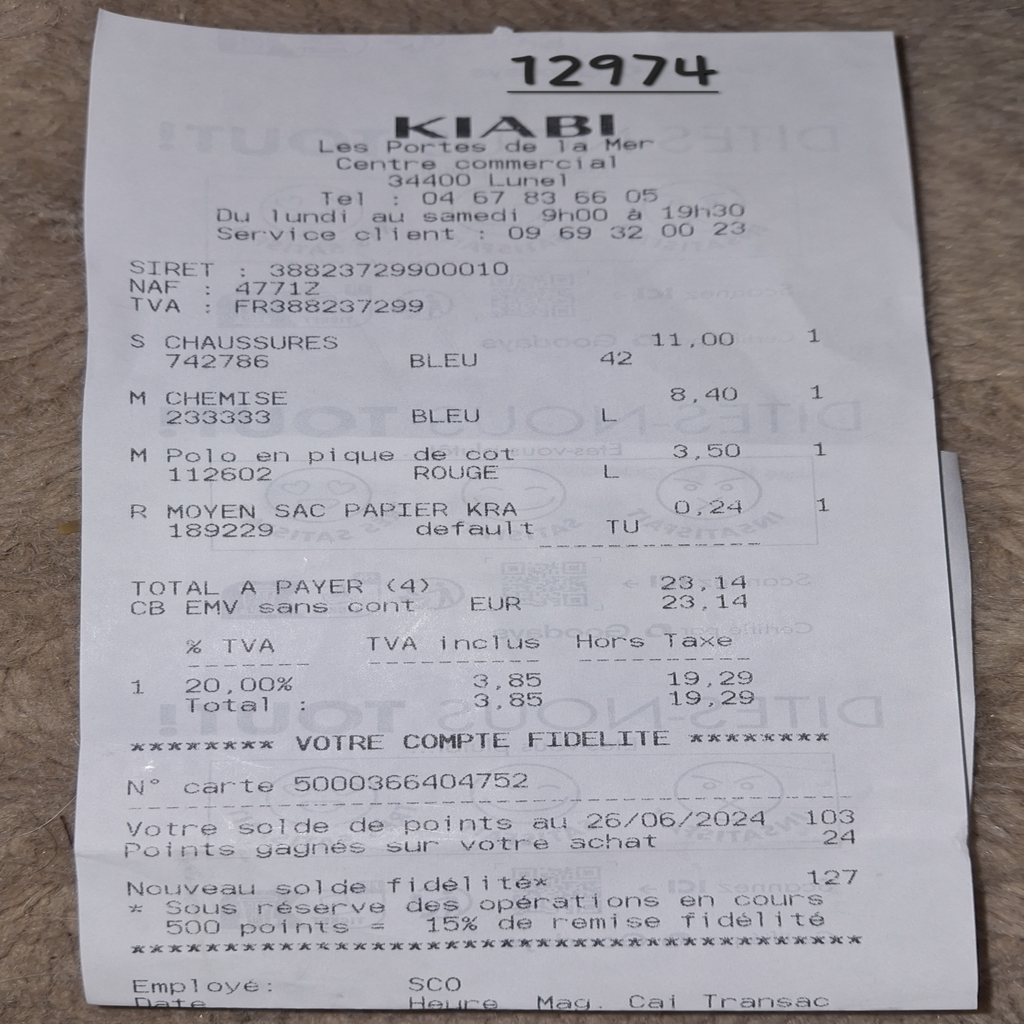recipt: (75, 6, 982, 1009)
